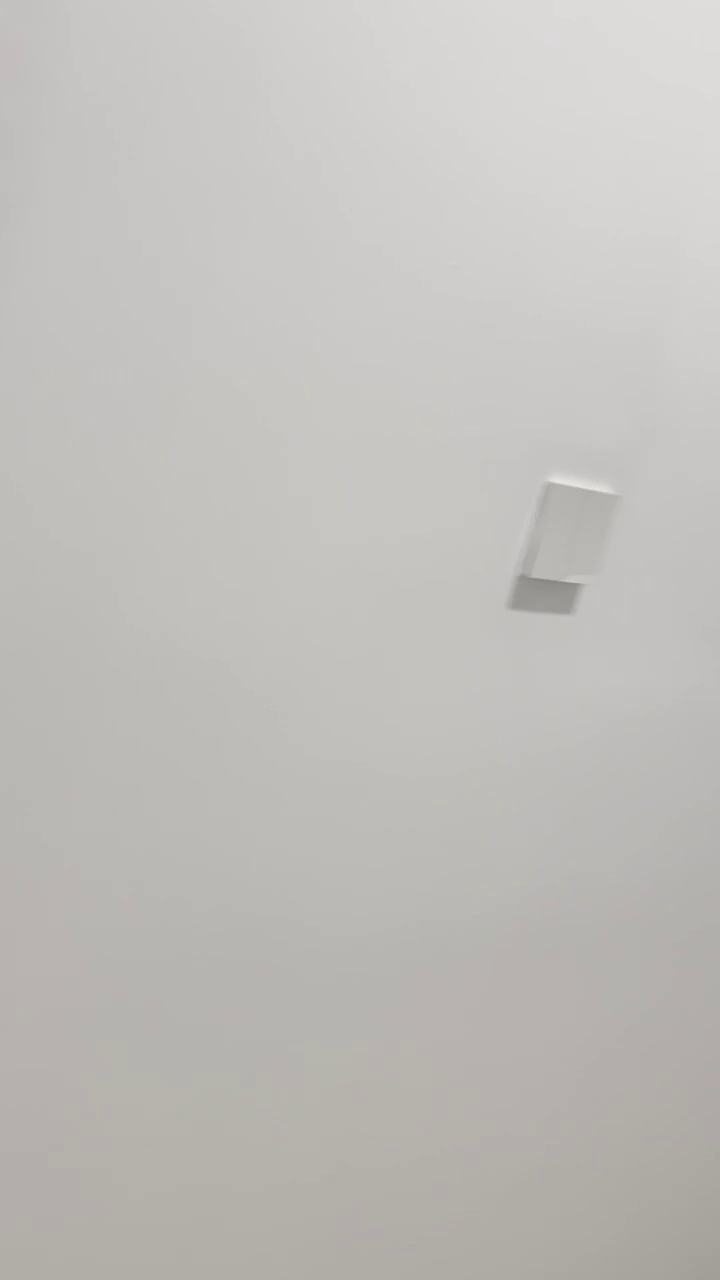button: (514, 476, 619, 590)
